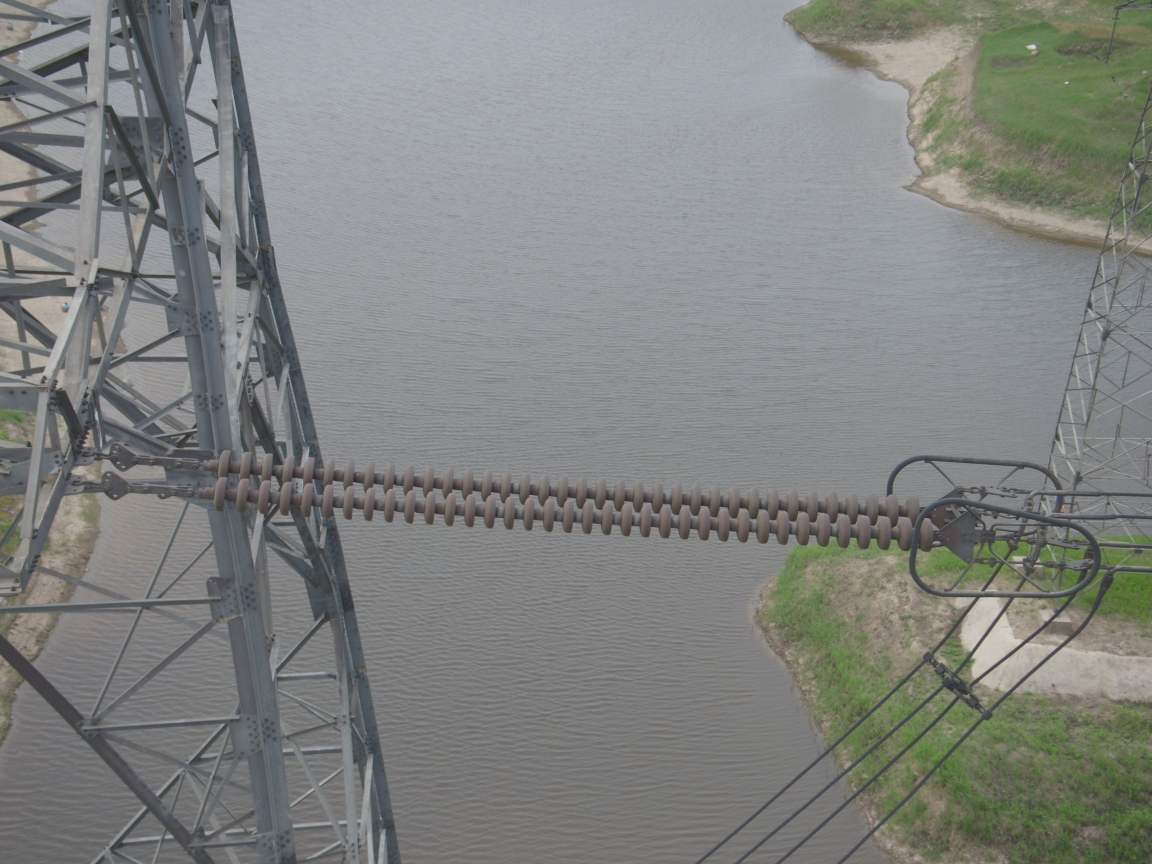insulator: (166, 448, 965, 553)
